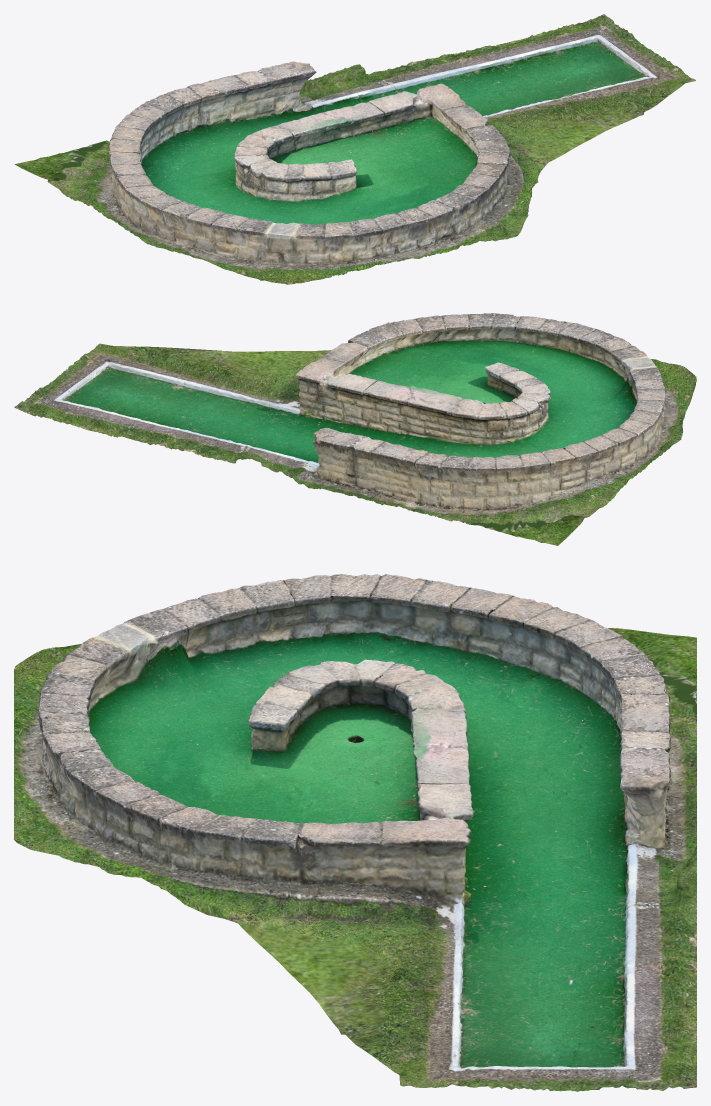
File: mini_golf_field.glb
3 views of the same model, one above another, from view 1: azimuth 30°, elevation 25°; view 2: azimuth 150°, elevation 25°; view 3: azimuth 270°, elevation 25° (orthographic). The views are drawn at different scales.
Parts seen in each view (by area): view 1: Object_4; view 2: Object_4; view 3: Object_4.
Boxes of the visible parts, <box> form: Object_4: <box>14,14,695,284</box>; Object_4: <box>14,313,696,545</box>; Object_4: <box>14,574,696,1091</box>.
Bounding box in the file's own units: 6.54 × 0.5664 × 4.11.
1 material, 1 textured.
